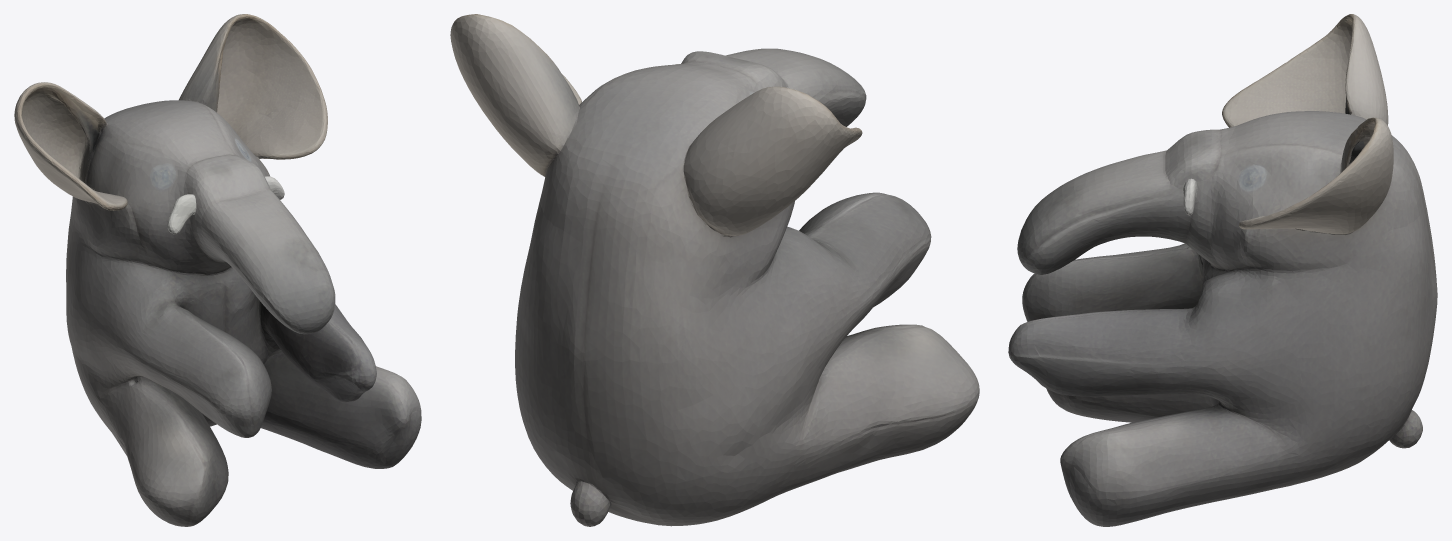
3 renders of one model, left to right at view 1: azimuth 30°, elevation 25°; view 2: azimuth 150°, elevation 25°; view 3: azimuth 270°, elevation 25°, orthographic. The views are drawn at different scales.
Visible parts, largest first — view 1: geometry_0; view 2: geometry_0; view 3: geometry_0.
Boxes of the visible parts, x1=… form: geometry_0: x1=14, y1=14, x2=421, y2=526; geometry_0: x1=450, y1=14, x2=979, y2=526; geometry_0: x1=1008, y1=14, x2=1437, y2=526.
Bounding box in the file's own units: 0.1324 × 0.1561 × 0.1536.
1 material, 1 textured.
